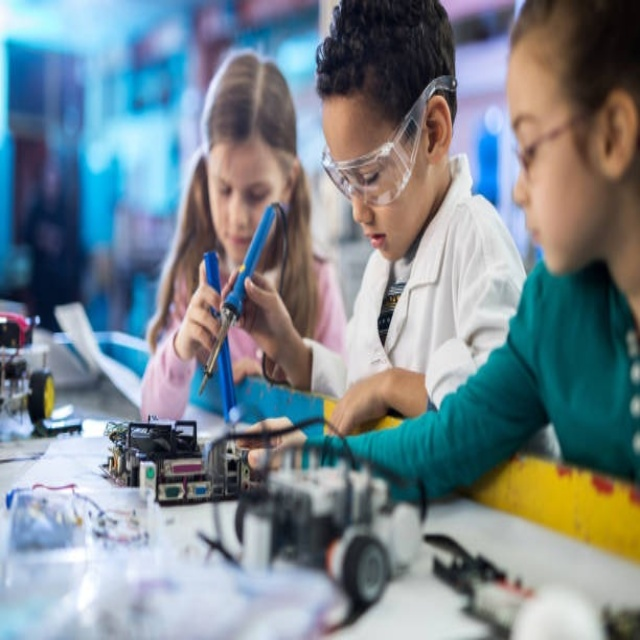Gafas: (321, 77, 454, 206), (509, 110, 592, 175)
Sin_gafas: (210, 160, 273, 209)
Sin_guantes: (221, 259, 298, 370), (178, 254, 240, 366), (324, 355, 402, 442), (232, 414, 309, 470)
Sin_mascara: (522, 204, 570, 271), (361, 221, 398, 260), (218, 221, 250, 254)
